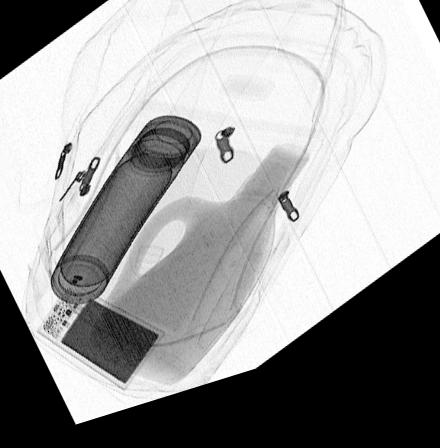Powerbank: (32, 287, 165, 397)
